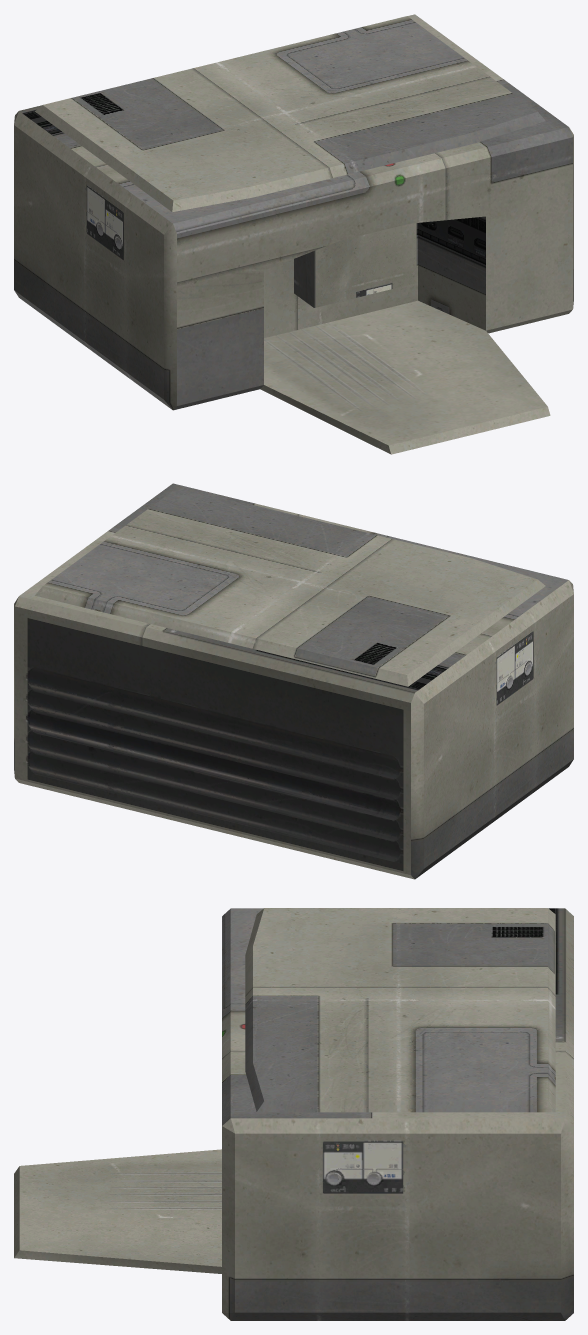
File: Prop_Fyj01.glb
3 renders of one model, top to bottom at view 1: azimuth 30°, elevation 25°; view 2: azimuth 150°, elevation 25°; view 3: azimuth 270°, elevation 25°, orthographic. The views are drawn at different scales.
Parts seen in each view (by area): view 1: xiutz_fyj_01; view 2: xiutz_fyj_01; view 3: xiutz_fyj_01.
Boxes of the visible parts, <box> form: xiutz_fyj_01: <box>14,14,573,454</box>; xiutz_fyj_01: <box>14,483,573,879</box>; xiutz_fyj_01: <box>14,908,573,1320</box>.
Bounding box in the file's own units: 0.6503 × 0.2952 × 0.7087.
Materials: 1 (1 with a texture image).
